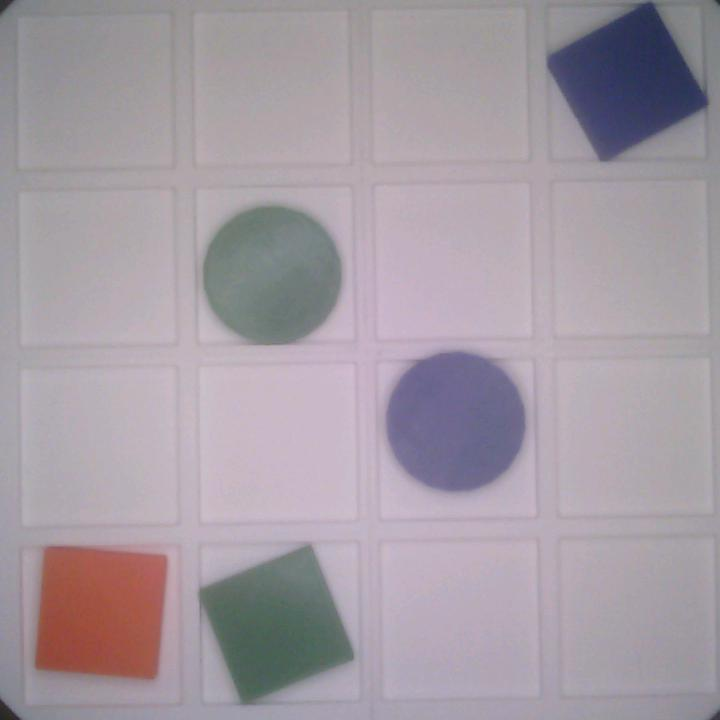Blue circle: (383, 346, 528, 496)
Blue square: (549, 6, 706, 162)
Green circle: (196, 198, 349, 348)
Green square: (199, 540, 357, 701)
Orange square: (30, 546, 179, 682)
